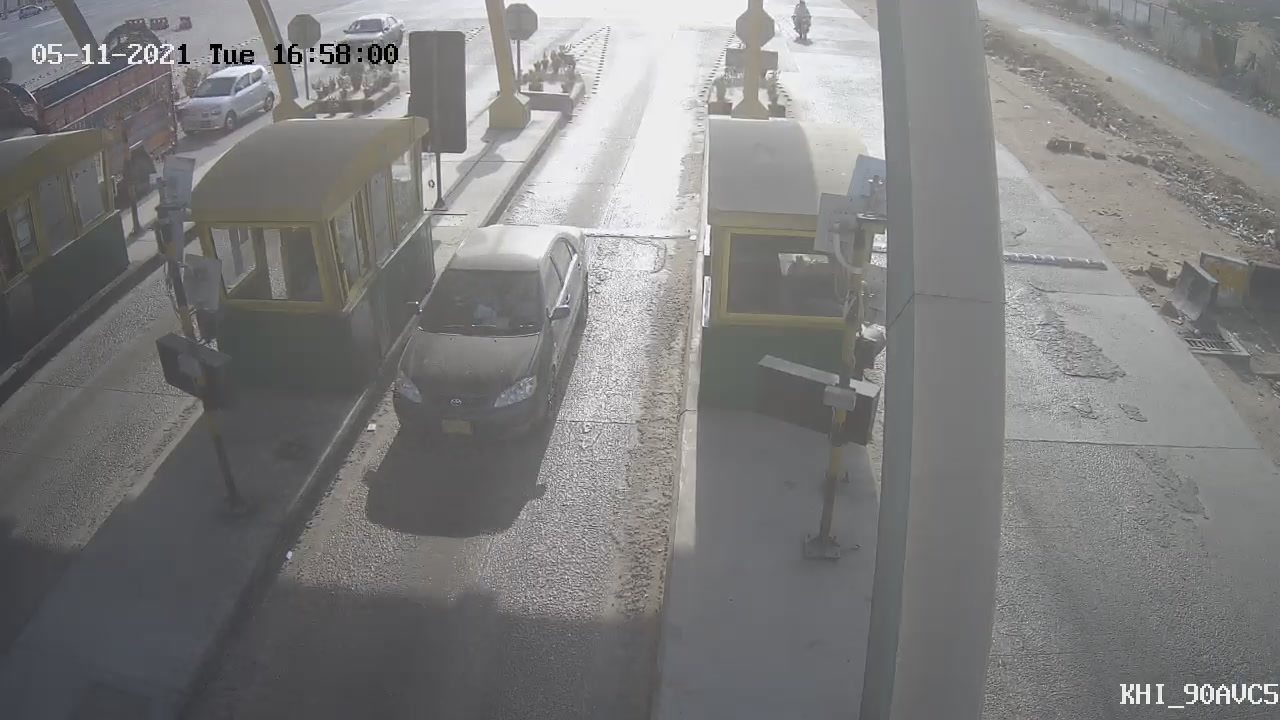F1: (364, 204, 604, 464)
